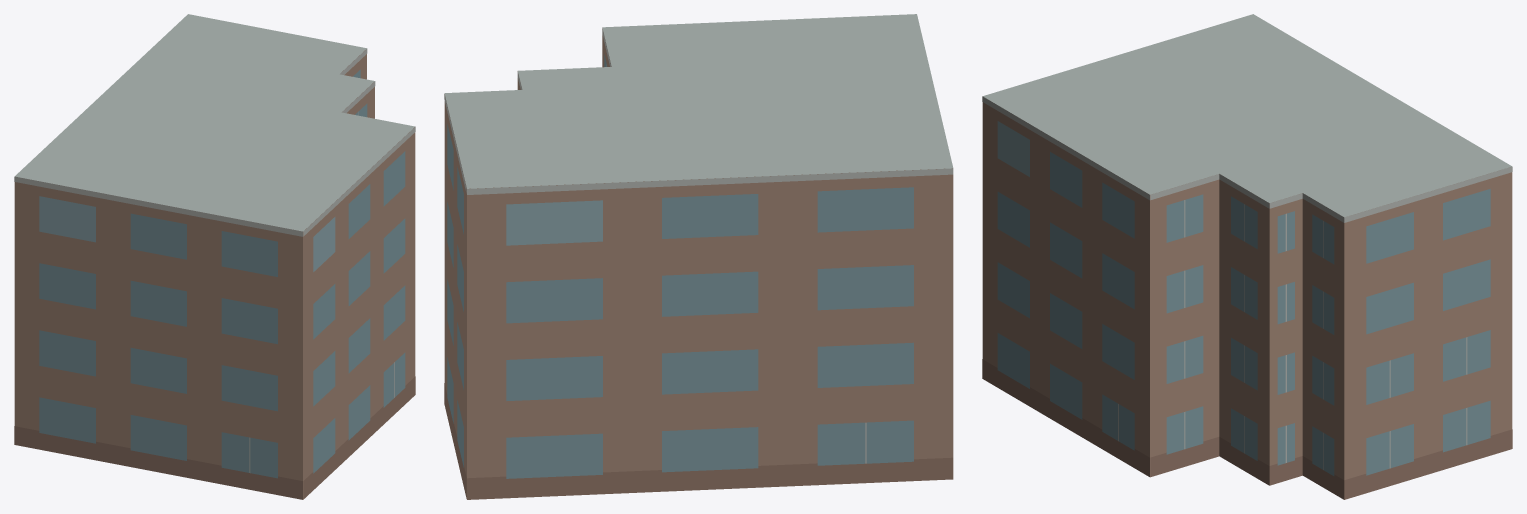
Rendered from residential-ace9a741-ab7c-4778-ac1e-498b763ff8f2.glb.
3 views of the same model, side by side, from view 1: azimuth 30°, elevation 25°; view 2: azimuth 150°, elevation 25°; view 3: azimuth 270°, elevation 25° (orthographic). The views are drawn at different scales.
Parts seen in each view (by area): view 1: residential-ace9a741-ab7c-4778-ac1e-498b763ff8f2.tmp; view 2: residential-ace9a741-ab7c-4778-ac1e-498b763ff8f2.tmp; view 3: residential-ace9a741-ab7c-4778-ac1e-498b763ff8f2.tmp.
Part boxes in pixels (bbox=[...]): residential-ace9a741-ab7c-4778-ac1e-498b763ff8f2.tmp: bbox=[14, 14, 415, 499]; residential-ace9a741-ab7c-4778-ac1e-498b763ff8f2.tmp: bbox=[444, 14, 953, 499]; residential-ace9a741-ab7c-4778-ac1e-498b763ff8f2.tmp: bbox=[982, 14, 1512, 499].
Bounding box in the file's own units: 18.84 × 12.2 × 20.75.
